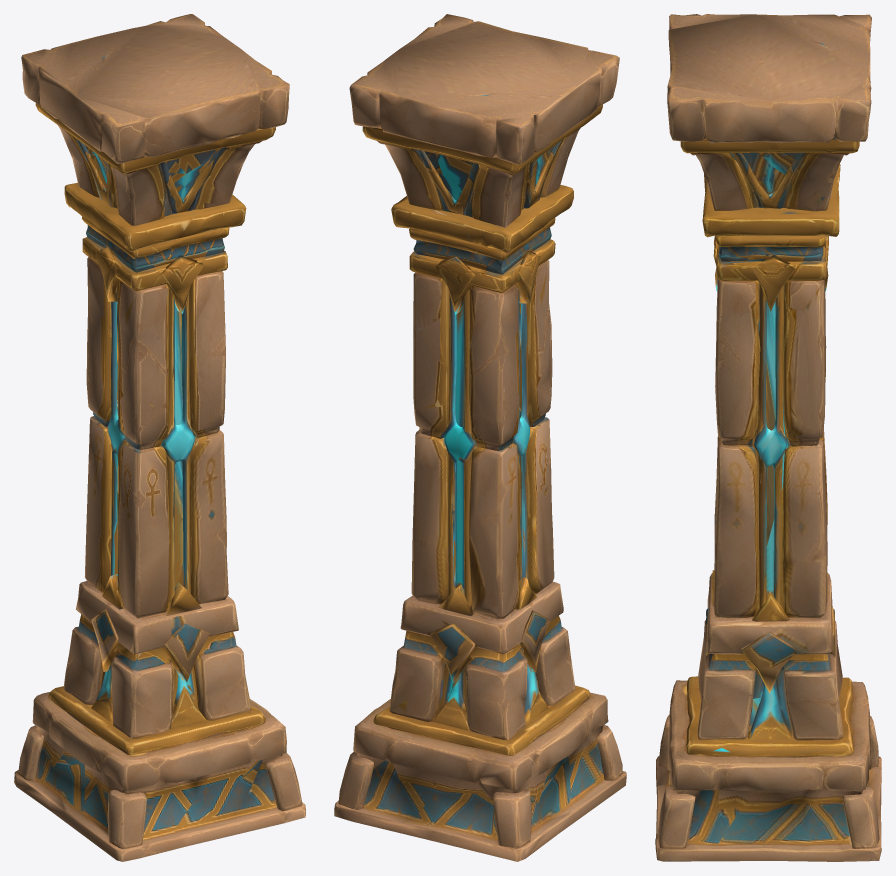
File: obelisk.glb
3 views of the same model, side by side, from view 1: azimuth 30°, elevation 25°; view 2: azimuth 150°, elevation 25°; view 3: azimuth 270°, elevation 25° (orthographic). The views are drawn at different scales.
Parts seen in each view (by area): view 1: Mesh_0; view 2: Mesh_0; view 3: Mesh_0.
Boxes of the visible parts, left/top/right/bottom form: Mesh_0: left=14, top=14, right=305, bottom=861; Mesh_0: left=334, top=14, right=626, bottom=861; Mesh_0: left=655, top=14, right=881, bottom=861.
Size of the model in its own units: 0.2731 by 1 by 0.2721.
1 material, 1 textured.
